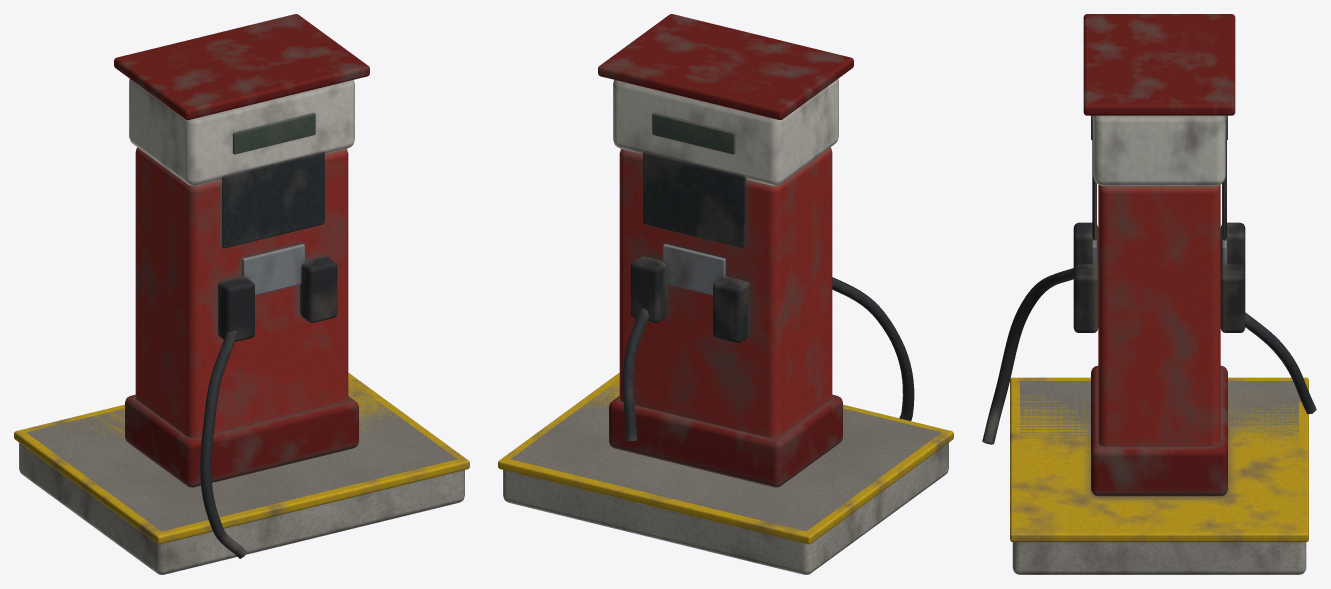
File: stacja_dystrybutor.glb
3 renders of one model, left to right at view 1: azimuth 30°, elevation 25°; view 2: azimuth 150°, elevation 25°; view 3: azimuth 270°, elevation 25°, orthographic. The views are drawn at different scales.
Parts seen in each view (by area): view 1: Dystrybutor; view 2: Dystrybutor; view 3: Dystrybutor.
Boxes of the visible parts, <box> form: Dystrybutor: <box>14,14,469,574</box>; Dystrybutor: <box>498,14,953,574</box>; Dystrybutor: <box>982,14,1316,574</box>.
Bounding box in the file's own units: 1.52 × 1.98 × 1.37.
Materials: 2 (2 with a texture image).
